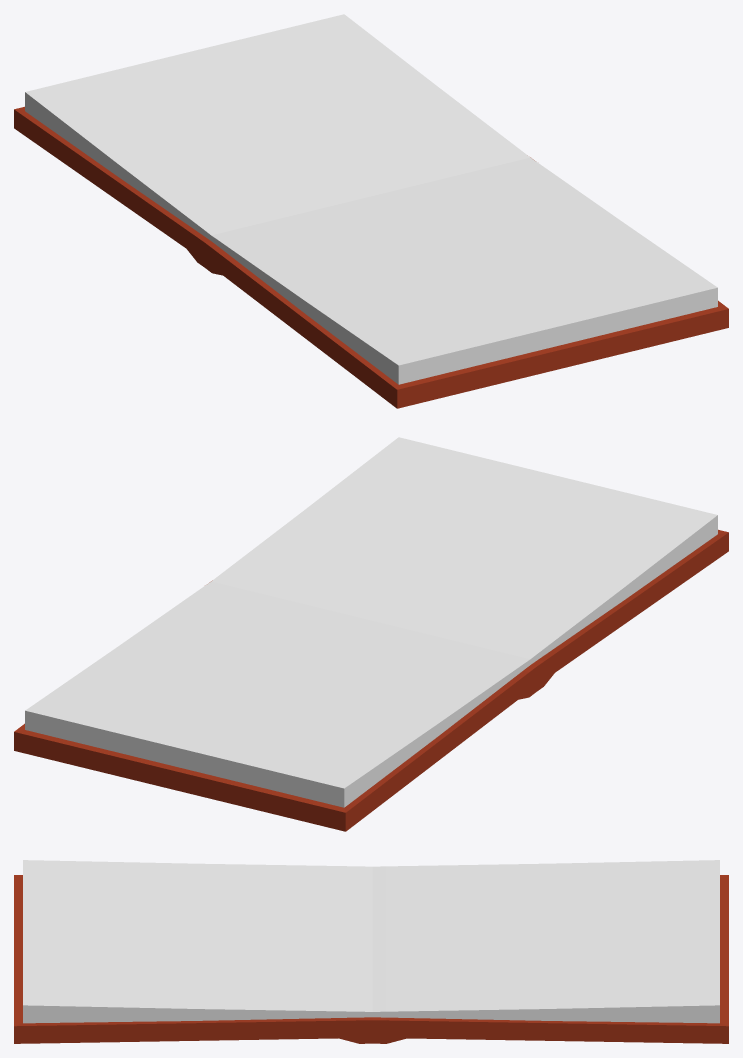
The model's file is book2.gltf.
3 views of the same model, one above another, from view 1: azimuth 30°, elevation 25°; view 2: azimuth 150°, elevation 25°; view 3: azimuth 270°, elevation 25° (orthographic). The views are drawn at different scales.
Parts seen in each view (by area): view 1: Cube; view 2: Cube; view 3: Cube.
Part boxes in pixels (x1,y1,x2,y2): Cube: [14, 14, 728, 408]; Cube: [14, 437, 728, 831]; Cube: [14, 860, 728, 1043].
Size of the model in its own units: 2 by 0.2202 by 4.
1 material, 1 textured.
